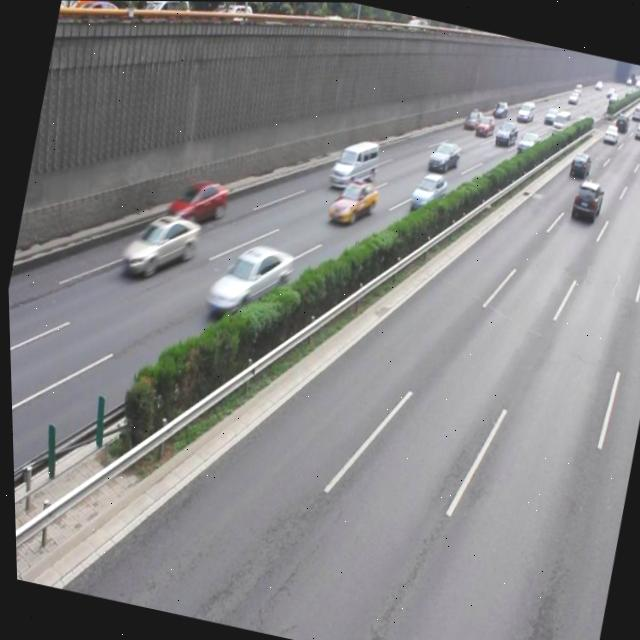car: (201, 233, 294, 322), (116, 204, 202, 287), (164, 172, 229, 232), (324, 174, 378, 229), (405, 166, 448, 213), (566, 177, 603, 225)
truck: (324, 133, 382, 195)
